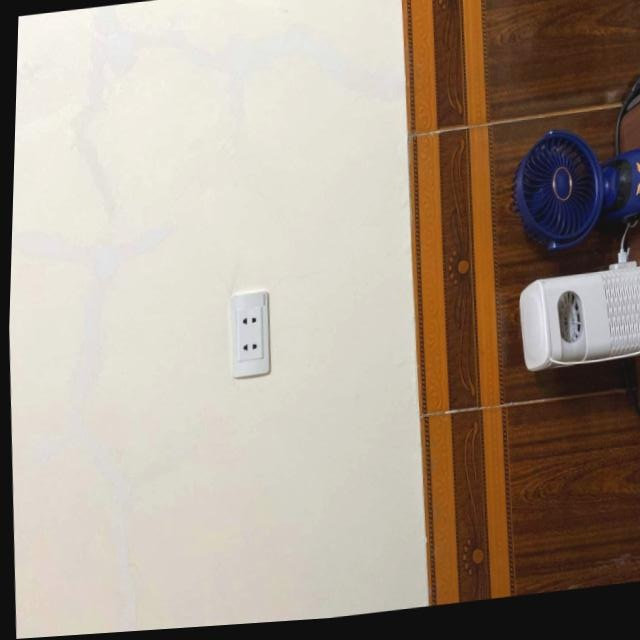outlet: (227, 289, 273, 380)
